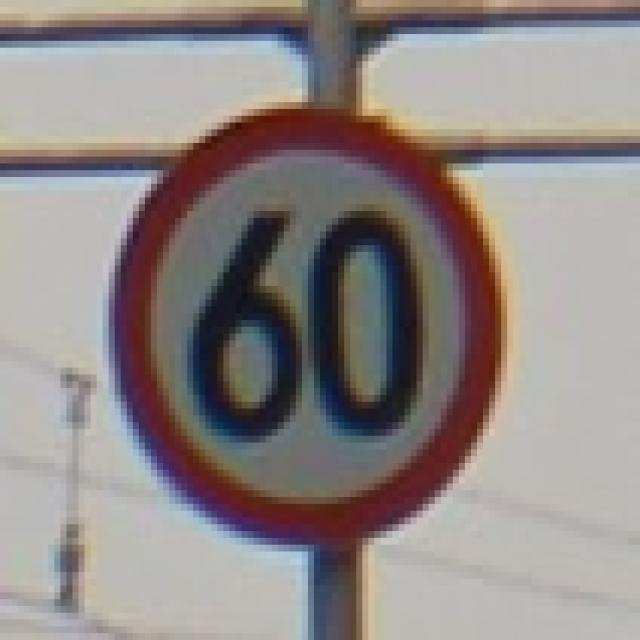Speed Limit -60-: (186, 200, 428, 448)
